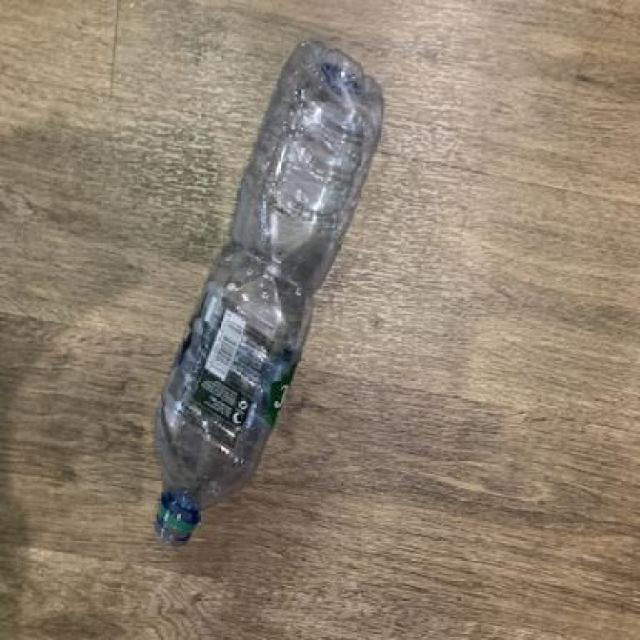trash: (145, 41, 390, 556)
